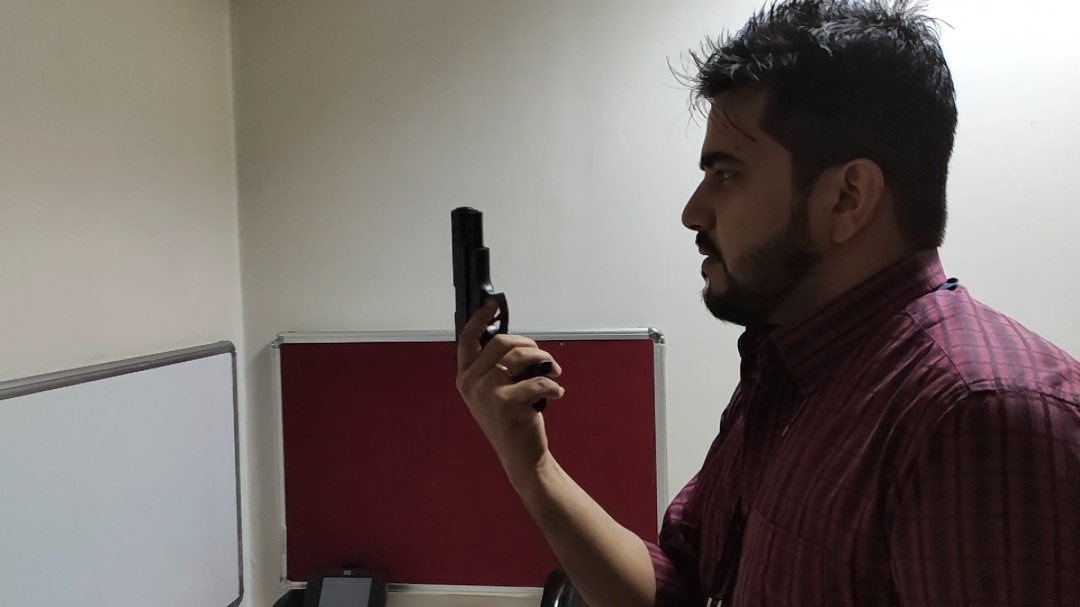gun: (447, 205, 555, 414)
